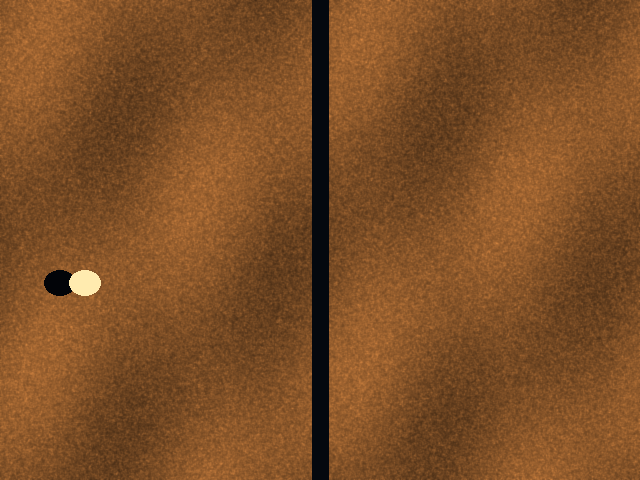Bottle: (69, 270, 100, 295)
